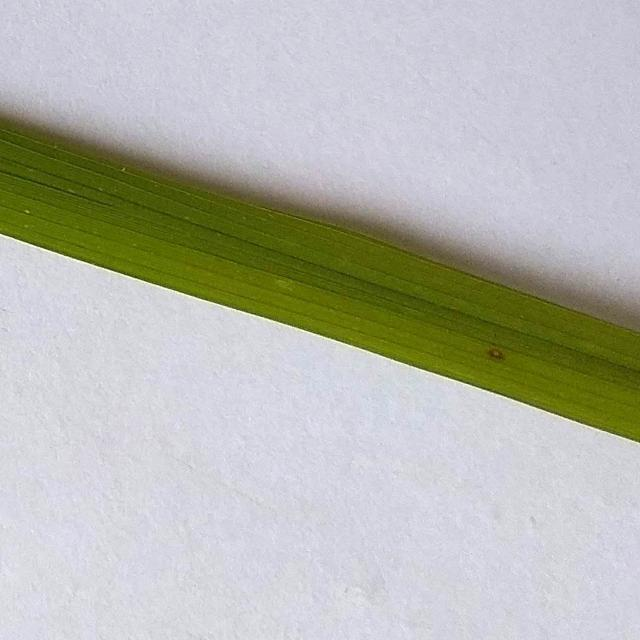Blast: (486, 341, 510, 361)
